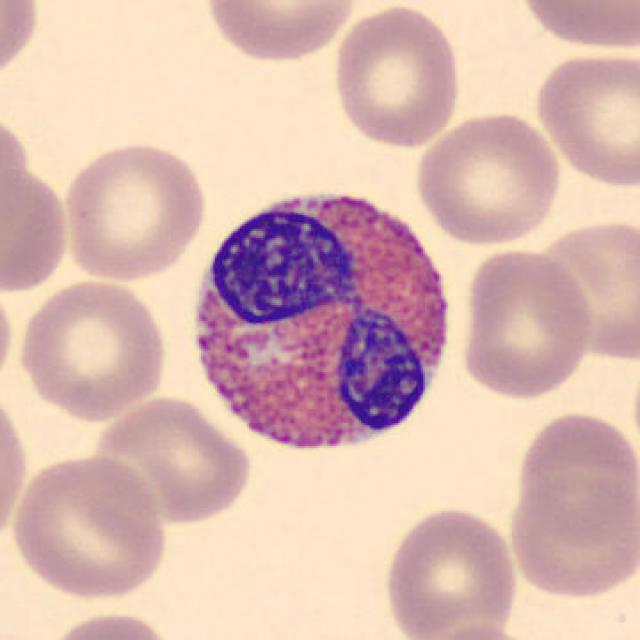Eosinophil: (178, 167, 466, 478)
RBC: (7, 450, 171, 603), (85, 392, 256, 528), (14, 275, 171, 423), (58, 136, 212, 284), (455, 243, 596, 402), (412, 107, 566, 247), (329, 2, 466, 150), (379, 502, 521, 638), (510, 406, 638, 546), (528, 212, 640, 366), (503, 476, 638, 601), (530, 46, 638, 190), (0, 146, 75, 298), (201, 0, 359, 65), (512, 0, 638, 53), (0, 383, 30, 550), (39, 608, 180, 640), (0, 0, 43, 88), (412, 620, 542, 640), (0, 277, 16, 398)
